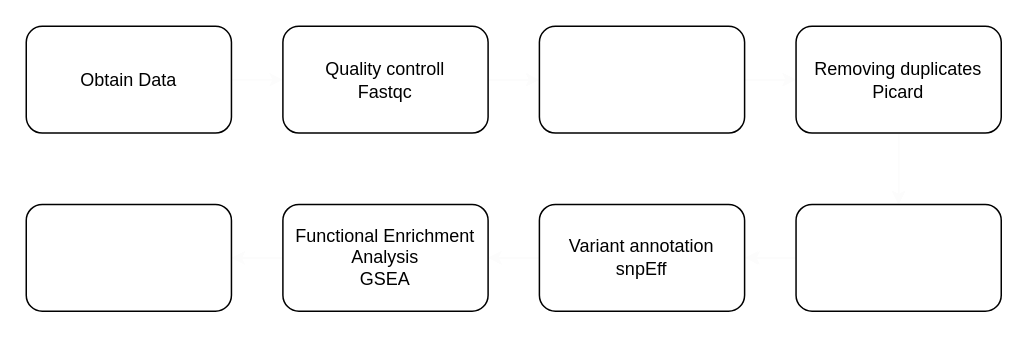
This 1028x338 diagram has some shape labels left out. Each missing label, with the box of its shape:
Aligning BWA: (538, 25, 745, 133)
Varient Calling Strelka: (795, 203, 1001, 311)
Visualise R: (25, 203, 231, 311)
